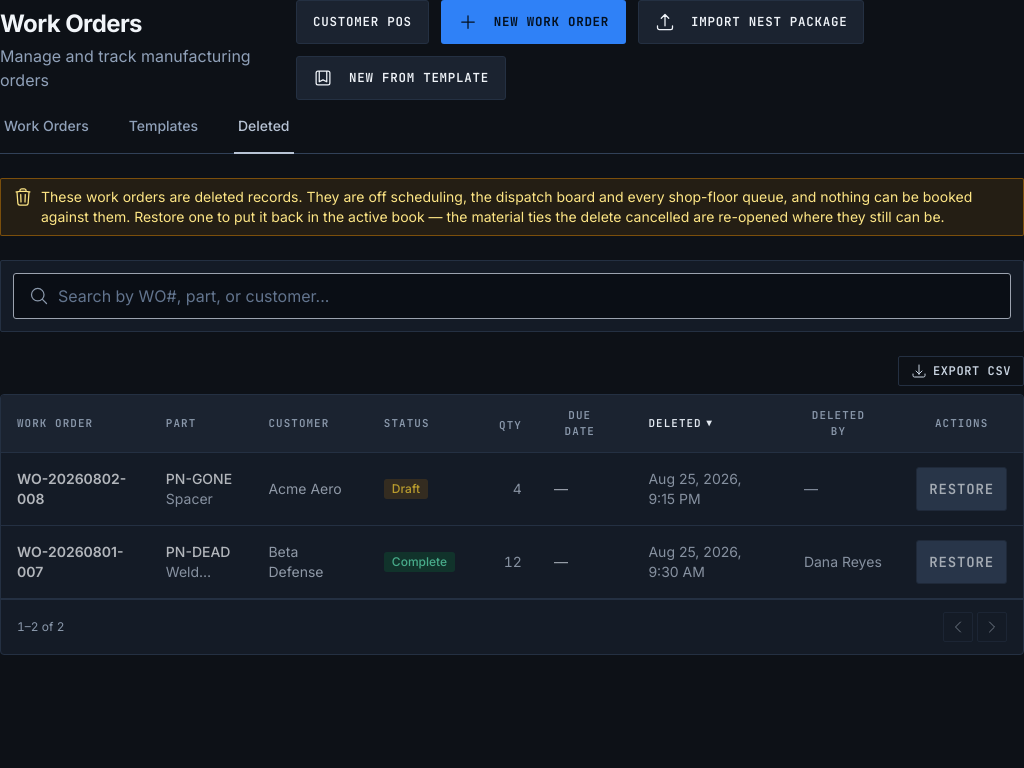
Scenario: WorkOrders: restoring is confirmed, non-optimistic, and honest about partials › raises a WARNING toast when a restored terminal-status job lands on no list
This screenshot has width=1024, height=768.
Click the button with aria-label "Restore work order WO-20260801-007" at (962, 562), box [916,540,1007,584]
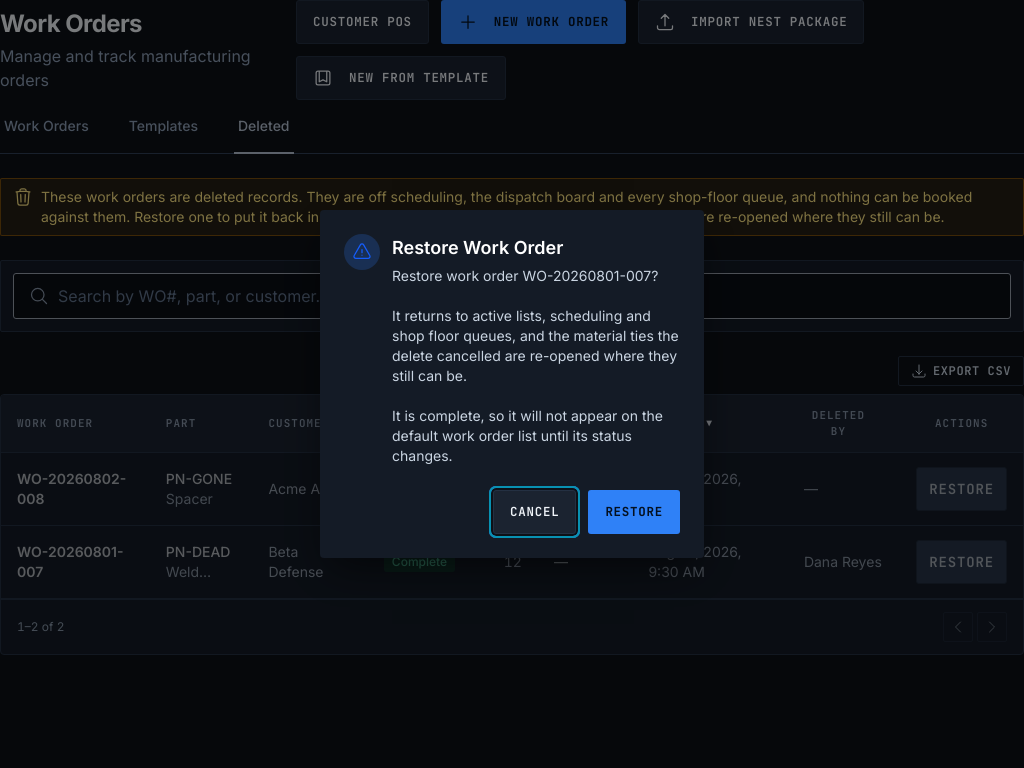
Click the button "Restore" at (634, 512), box [588,490,680,534]
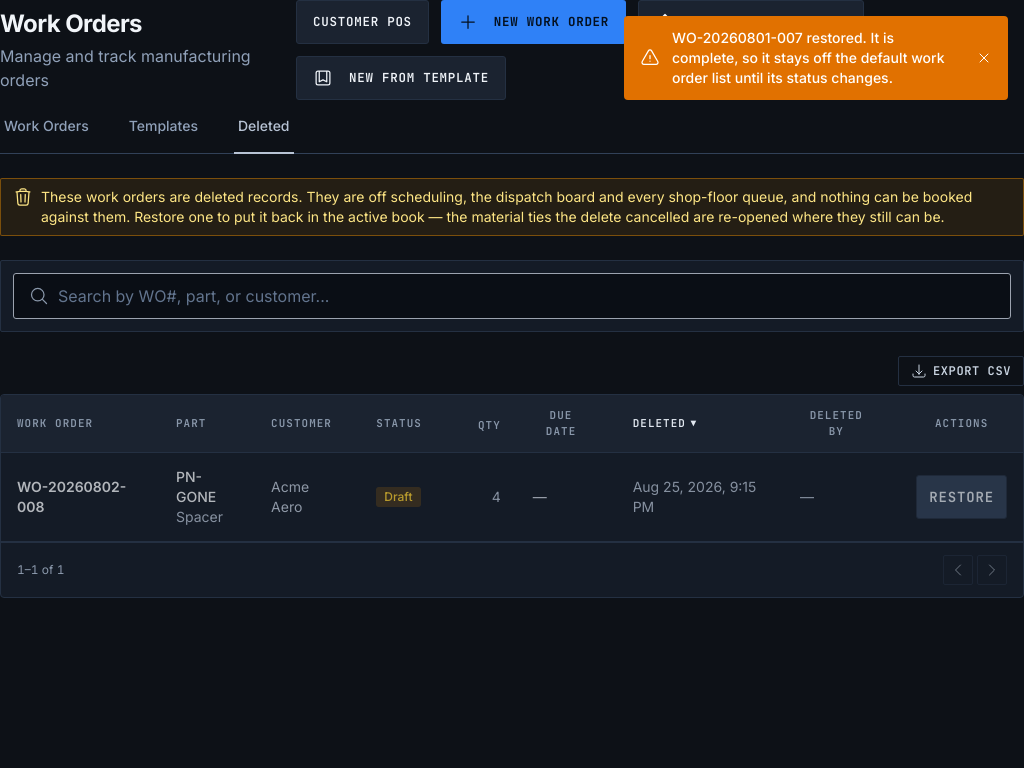
Now the message shows "WO-20260801-007 restored", box [672,29,944,86]
